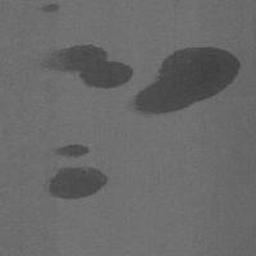Oil spot: (133, 45, 242, 115), (45, 44, 133, 90), (49, 166, 109, 200), (55, 143, 90, 157), (40, 3, 59, 12)
